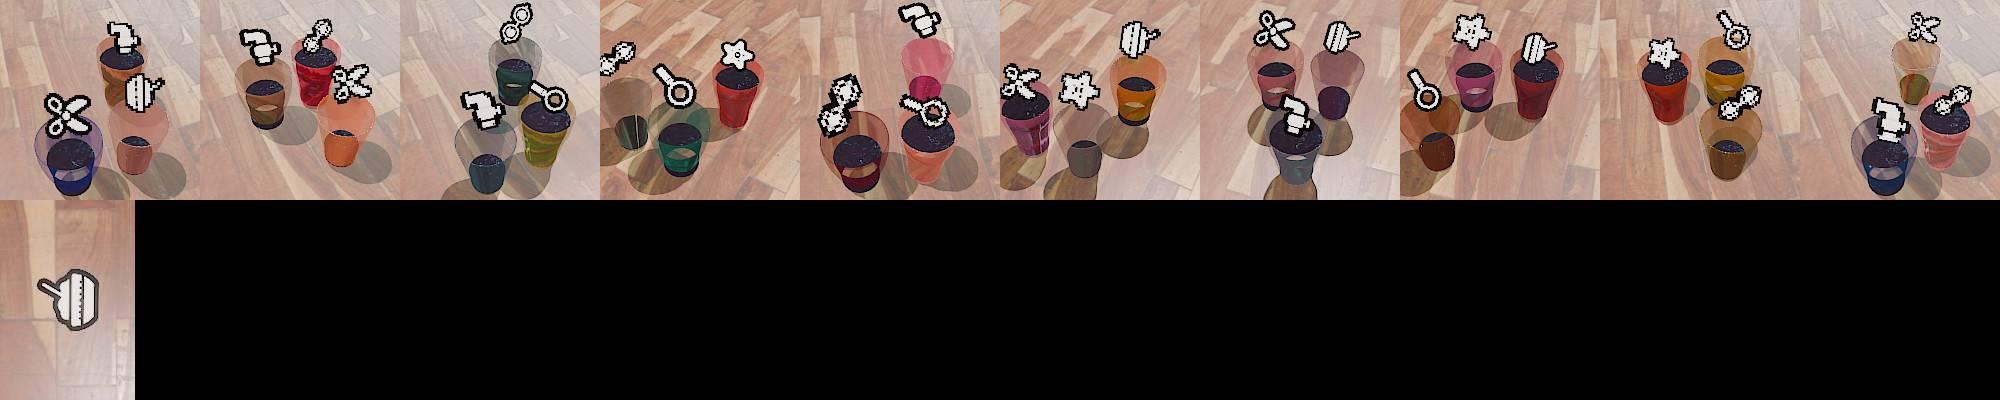icon: (36, 268, 102, 334), (818, 71, 864, 136), (43, 92, 93, 139), (652, 64, 698, 111), (1870, 96, 1911, 145), (460, 88, 506, 131), (898, 90, 946, 129), (239, 27, 283, 68), (1057, 69, 1101, 110), (122, 73, 166, 113), (1716, 82, 1760, 121), (1253, 9, 1295, 50), (1117, 19, 1159, 59), (329, 64, 371, 103), (898, 1, 941, 39), (1000, 62, 1043, 101), (1408, 68, 1444, 113), (527, 78, 570, 113), (1717, 9, 1753, 52), (1453, 13, 1492, 51), (500, 1, 533, 45), (1279, 93, 1312, 135), (1323, 19, 1361, 55), (599, 41, 636, 76), (106, 20, 142, 57), (718, 37, 756, 71), (1934, 83, 1974, 115), (1519, 32, 1556, 66), (301, 18, 333, 56), (1645, 37, 1679, 73), (1908, 11, 1941, 45)
